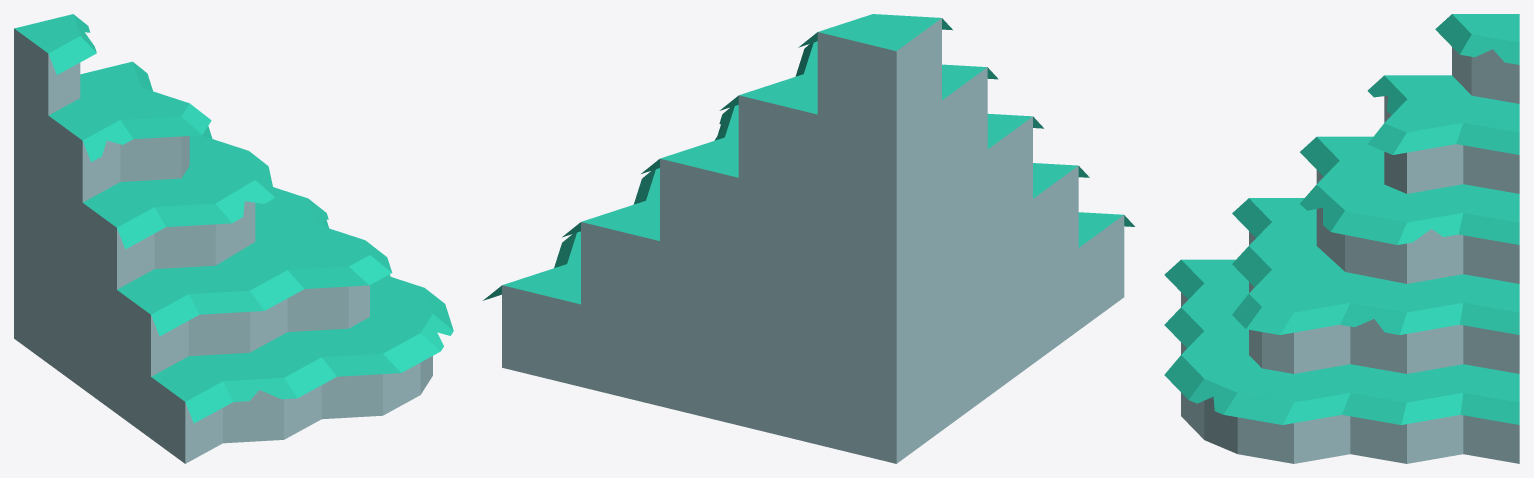
File: cliff_stepsCorner_stone.dae
The picture shows the model from 3 angles, left to right: view 1: azimuth 30°, elevation 25°; view 2: azimuth 150°, elevation 25°; view 3: azimuth 270°, elevation 25°; orthographic projection. The views are drawn at different scales.
Parts seen in each view (by area): view 1: cliff_stepsCorner_stone; view 2: cliff_stepsCorner_stone; view 3: cliff_stepsCorner_stone.
Boxes of the visible parts, x1,y1,x2,y2 form: cliff_stepsCorner_stone: (14, 14, 453, 463); cliff_stepsCorner_stone: (483, 14, 1134, 463); cliff_stepsCorner_stone: (1164, 14, 1519, 463).
Size of the model in its own units: 1.05 by 1 by 1.05.
